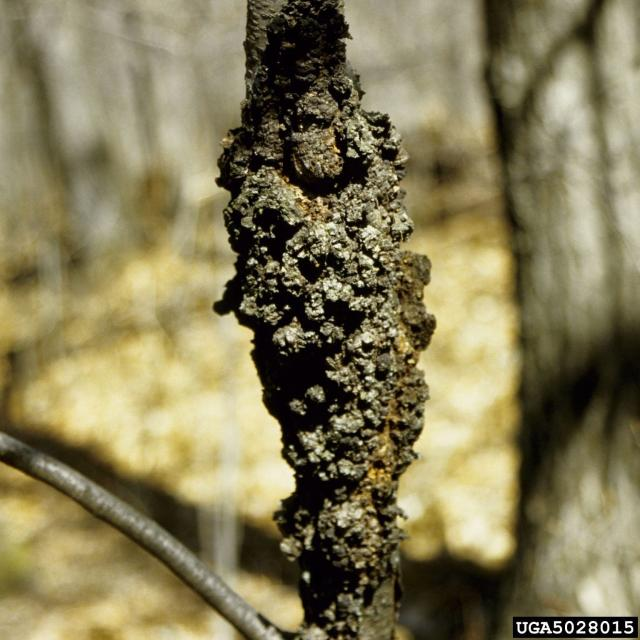Black_knot: (212, 1, 438, 637)
